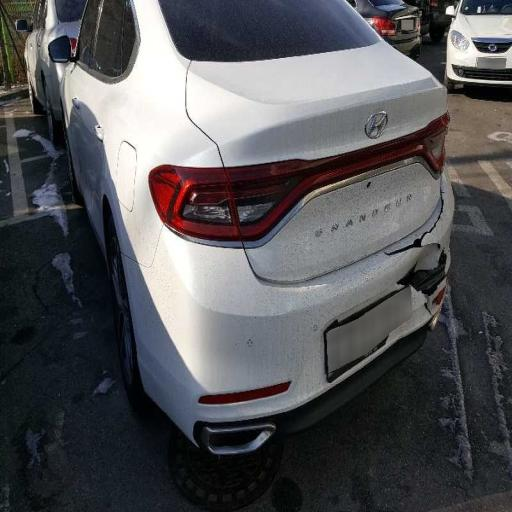broken: (363, 218, 483, 349)
